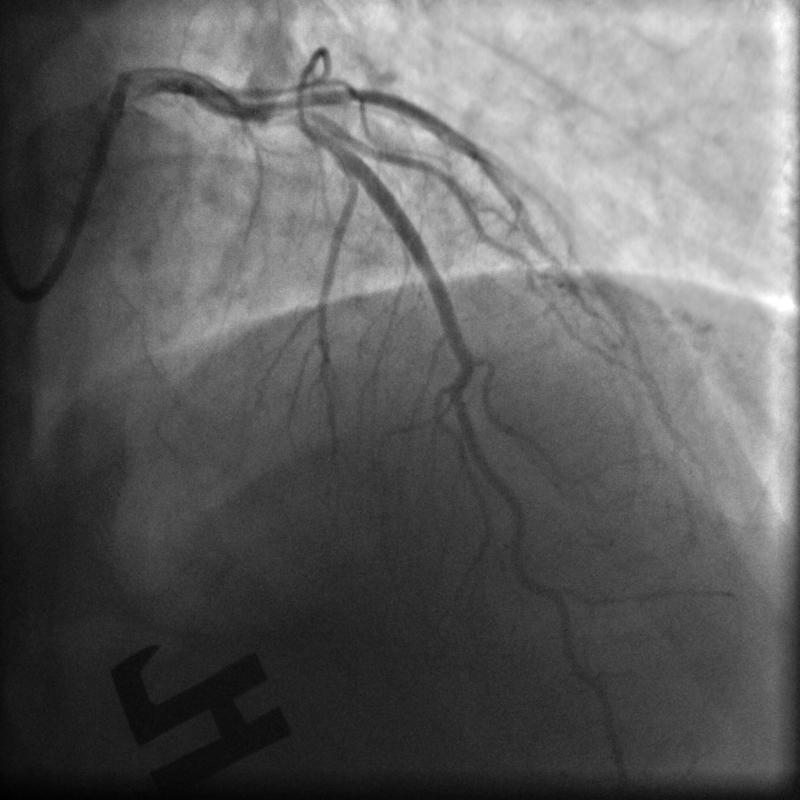Stenosis: (246, 96, 310, 132)
